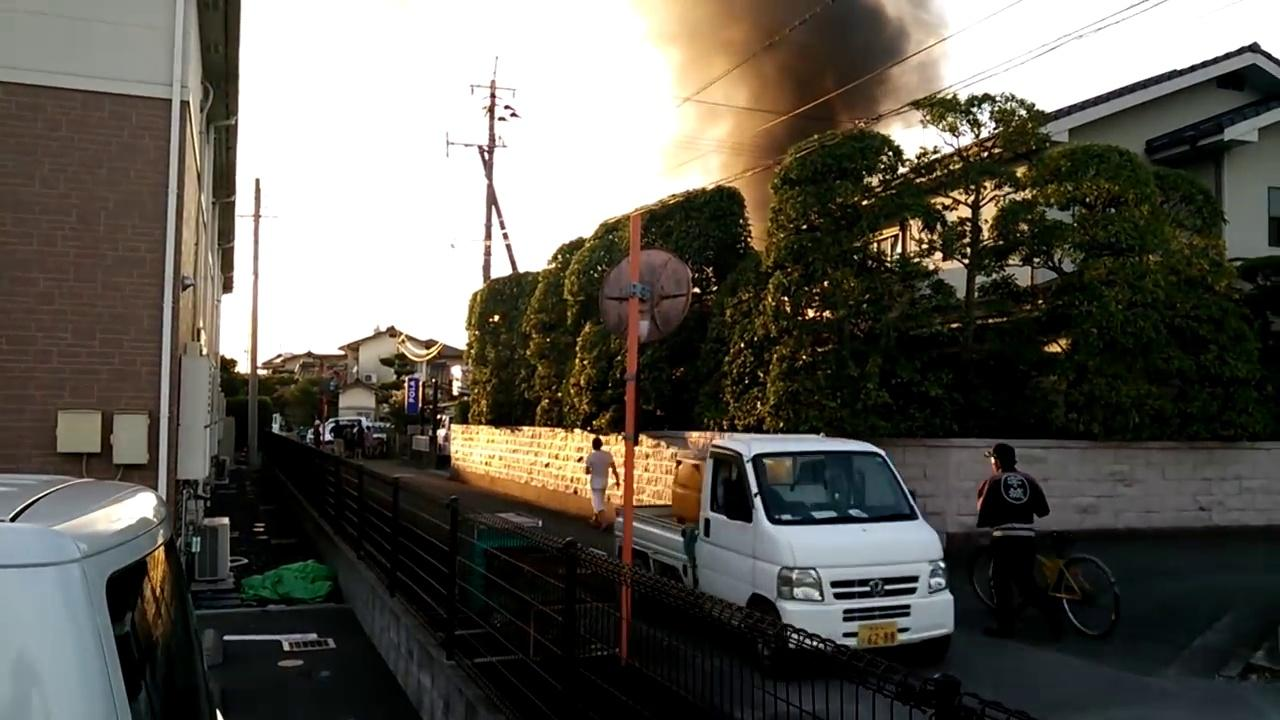smoke: (704, 18, 844, 116)
